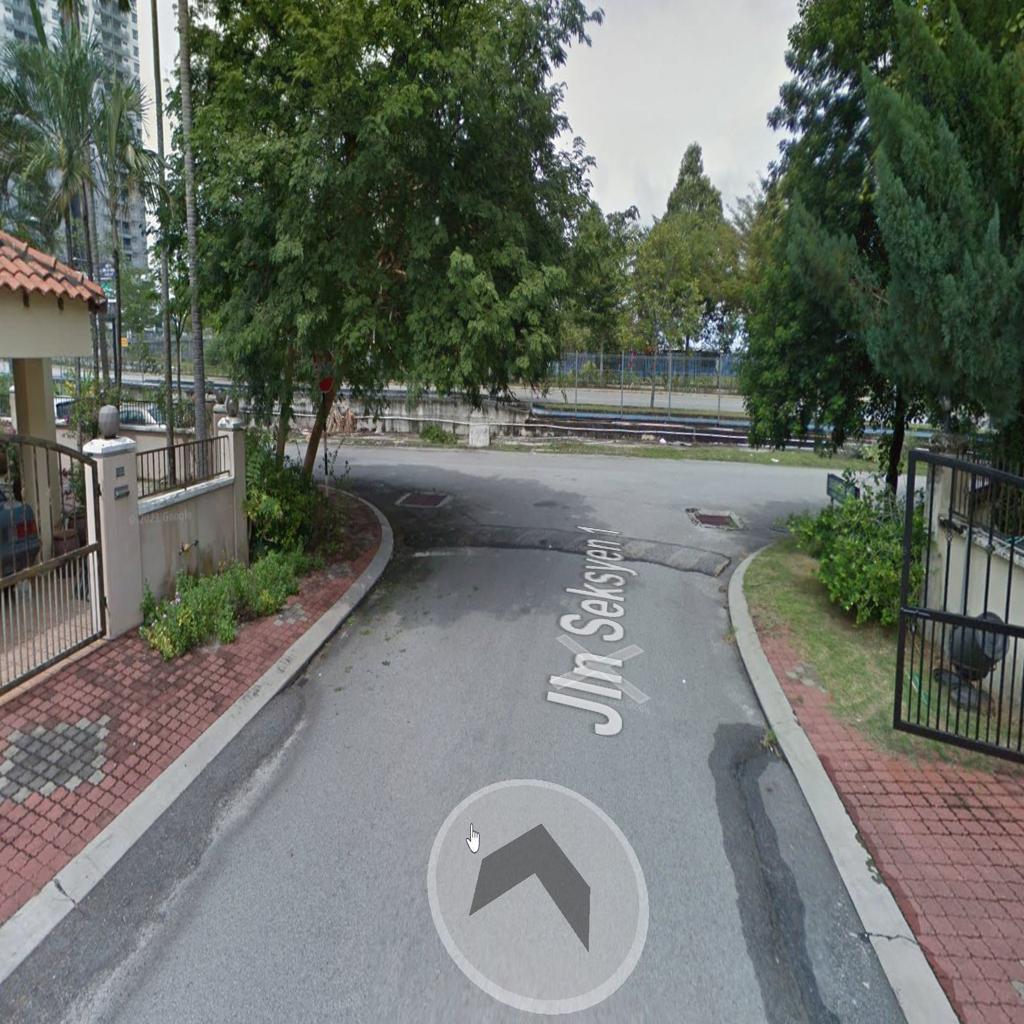Junction: (668, 425, 912, 581), (291, 422, 458, 535)
